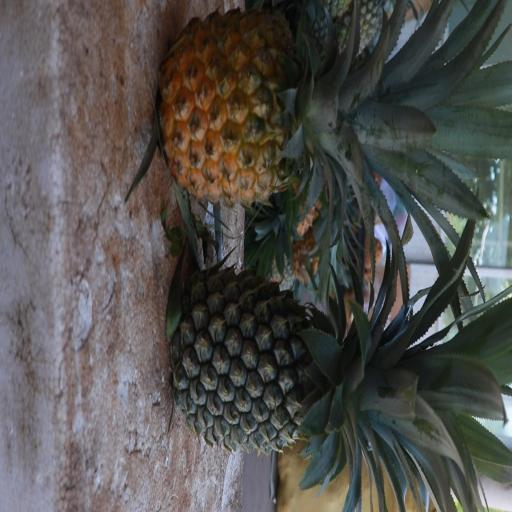Pineapple - v8 v1: (158, 21, 460, 205)
